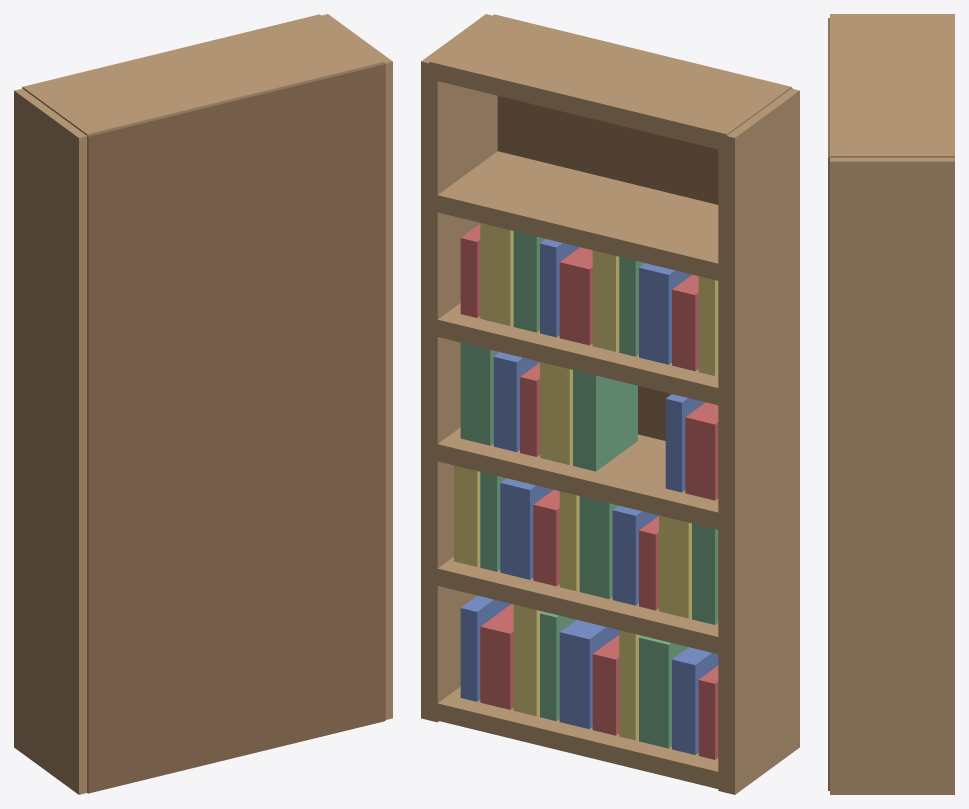
Rendered from bookshelf.glb.
The picture shows the model from 3 angles, left to right: view 1: azimuth 30°, elevation 25°; view 2: azimuth 150°, elevation 25°; view 3: azimuth 270°, elevation 25°; orthographic projection. The views are drawn at different scales.
Parts seen in each view (by area): view 1: bookshelf; view 2: bookshelf; view 3: bookshelf.
Boxes of the visible parts, x1=… form: bookshelf: x1=14, y1=14, x2=392, y2=794; bookshelf: x1=421, y1=14, x2=799, y2=794; bookshelf: x1=828, y1=14, x2=954, y2=794.
Bounding box in the file's own units: 0.95 × 1.9 × 0.345.
